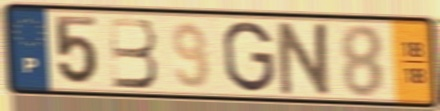5: (50, 14, 100, 89)
8: (337, 22, 388, 101)
9: (170, 19, 213, 91)
B: (106, 15, 161, 90)
G: (220, 19, 278, 95)
N: (276, 20, 335, 99)
